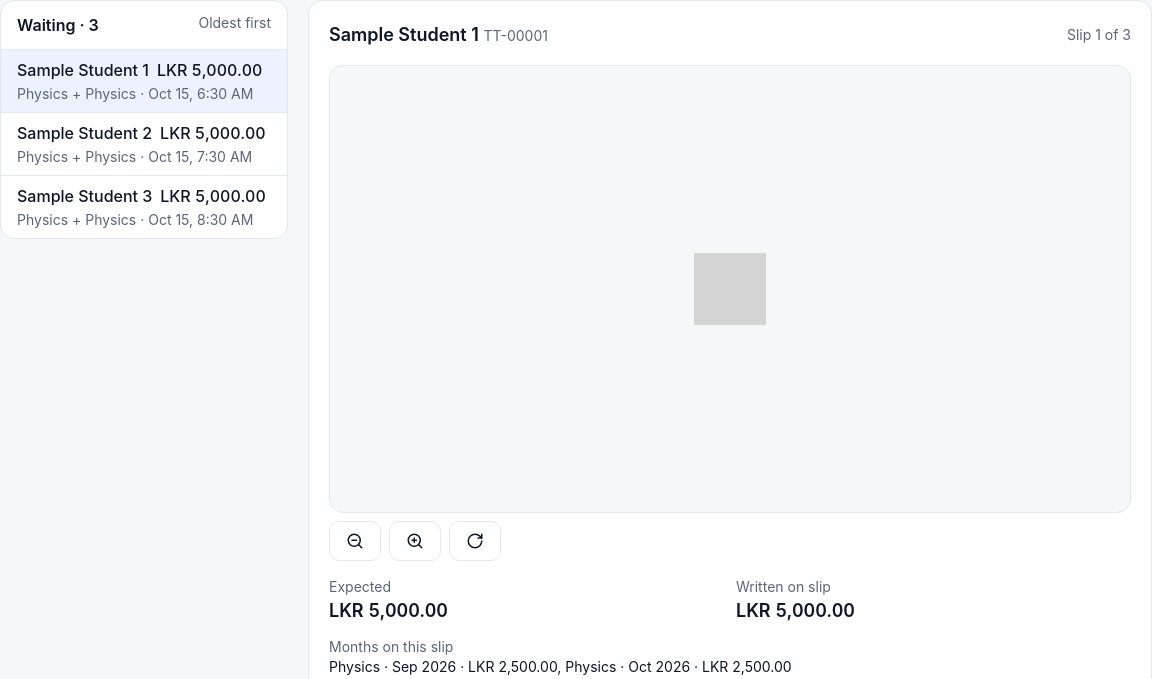
Scenario: bank slip queue 11a/11b (FEE-06) › works keyboard-only: A approves and advances, S skips, R opens the reason dialog and rejects
The image size is (1152, 679).
Type keys "a"
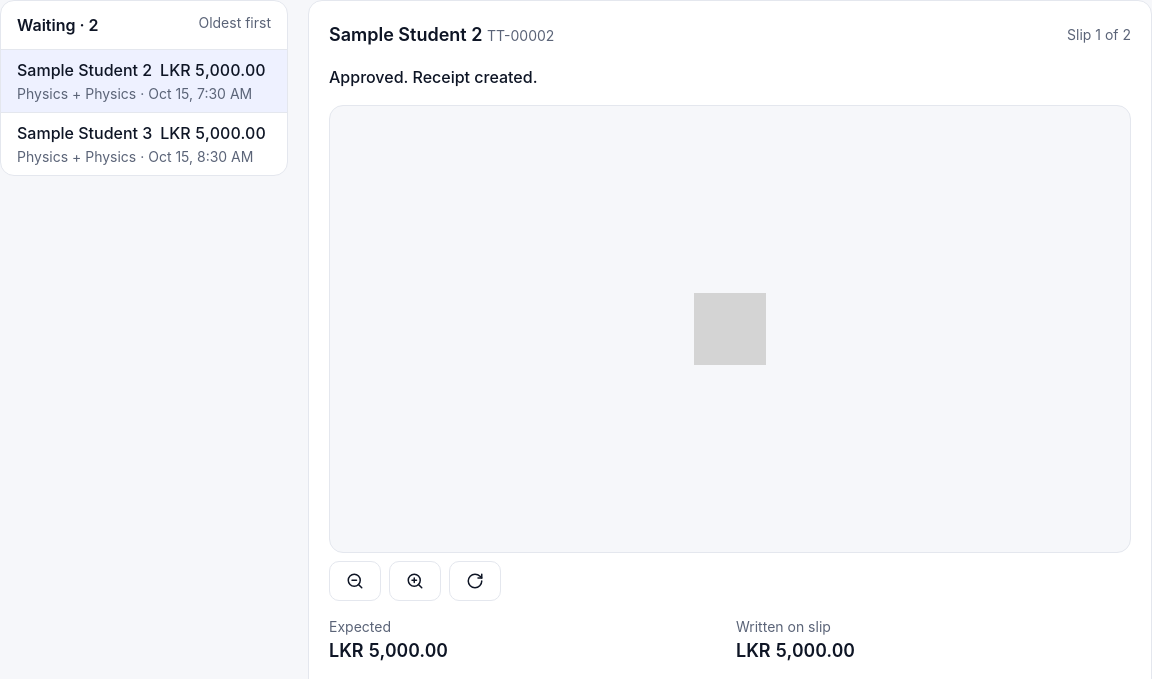
Now the text "Approved. Receipt created." is shown, box [329,67,538,87]
Now the heading "Sample Student 2 TT-00002" is shown, box [329,21,554,49]
Type keys "s"
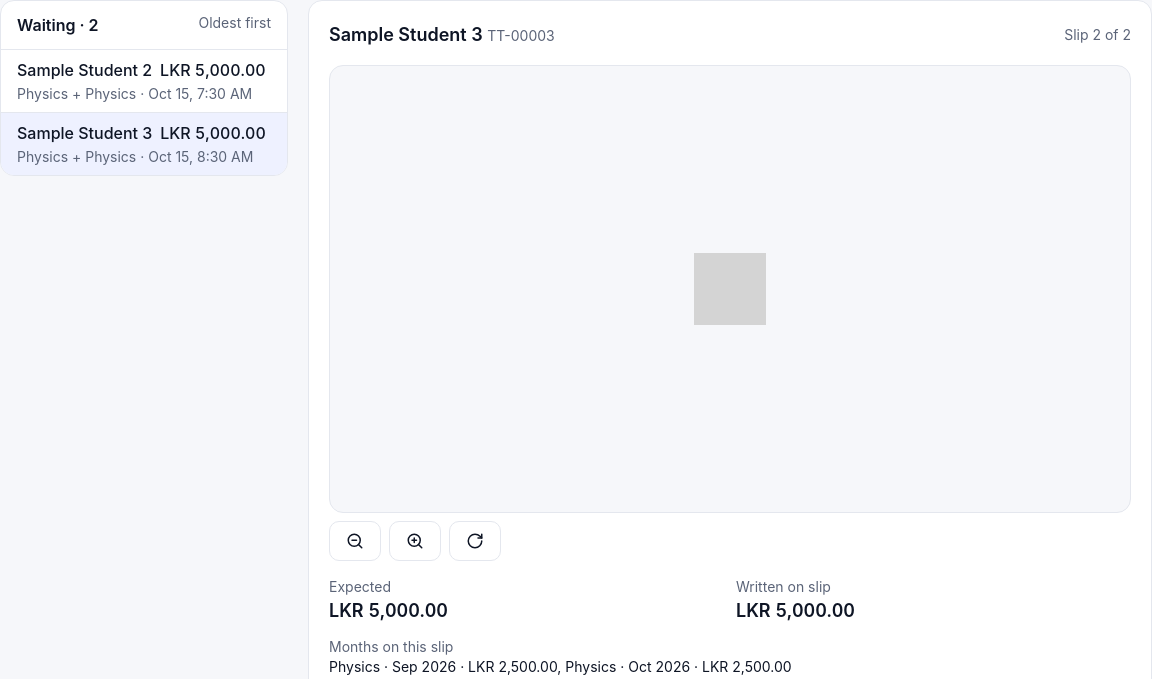
Now the heading "Sample Student 3 TT-00003" is shown, box [329,21,555,49]
Type keys "r"
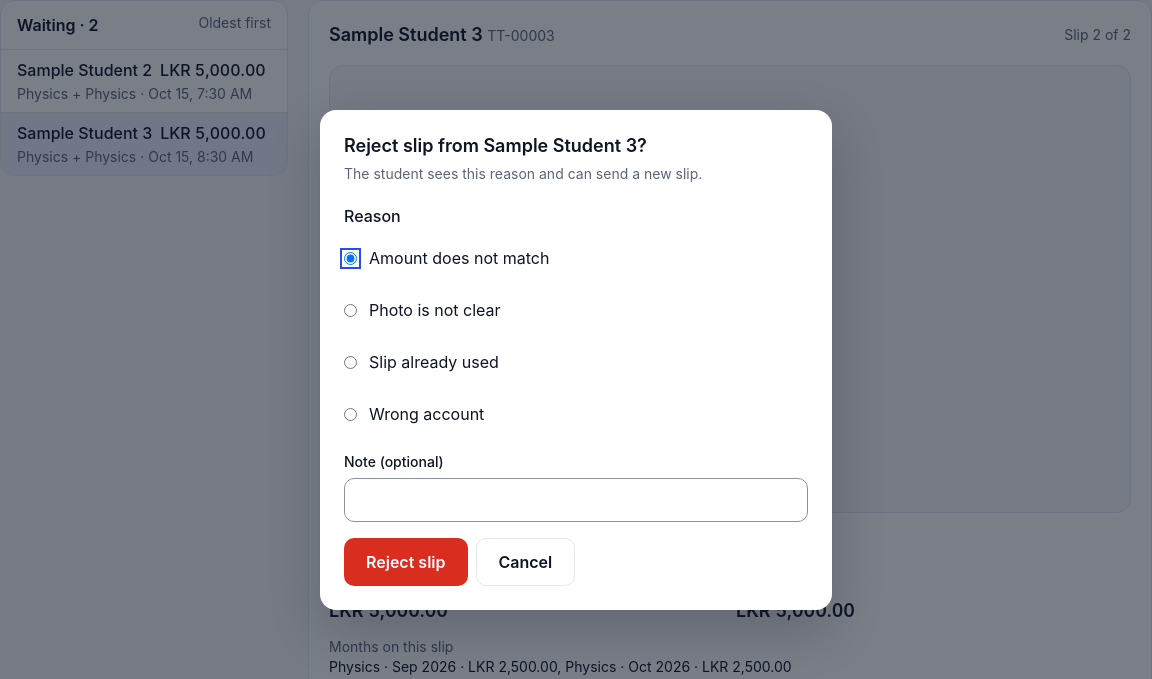
// Typing in the dialog never triggers the queue shortcuts.
Click the radio button labelled "Photo is not clear". click: (350, 310)
box: [344,304,357,316]
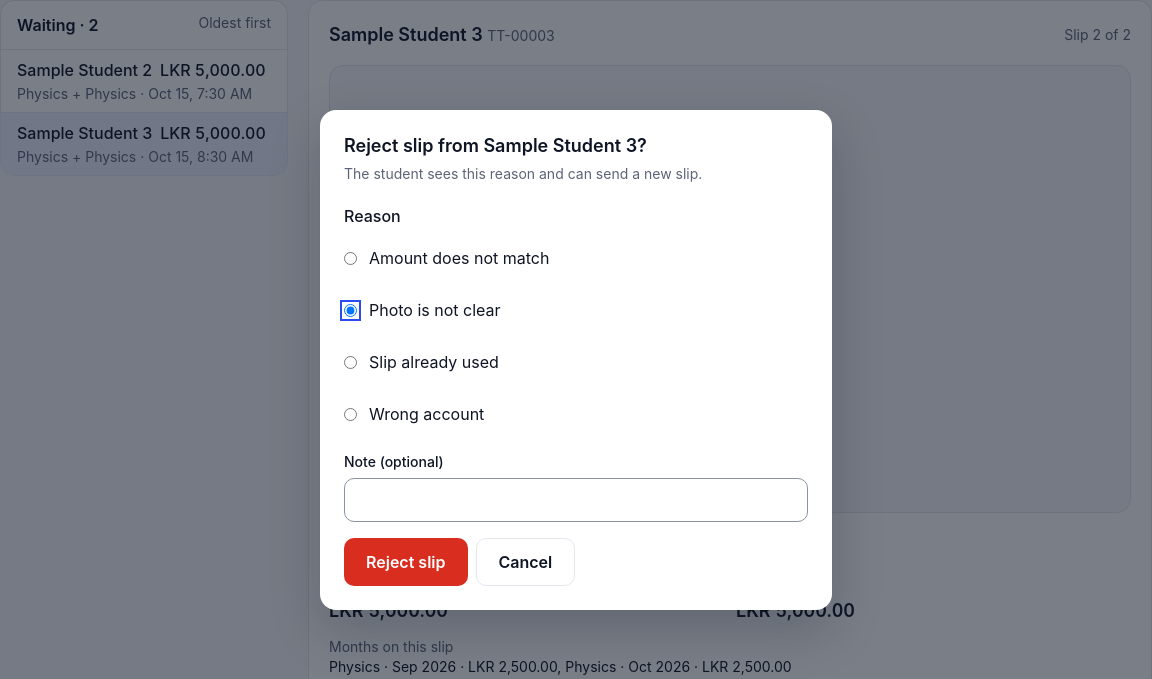
Type "as" into the field labelled "Note (optional)". click: (576, 500)
box: [344,478,808,522]
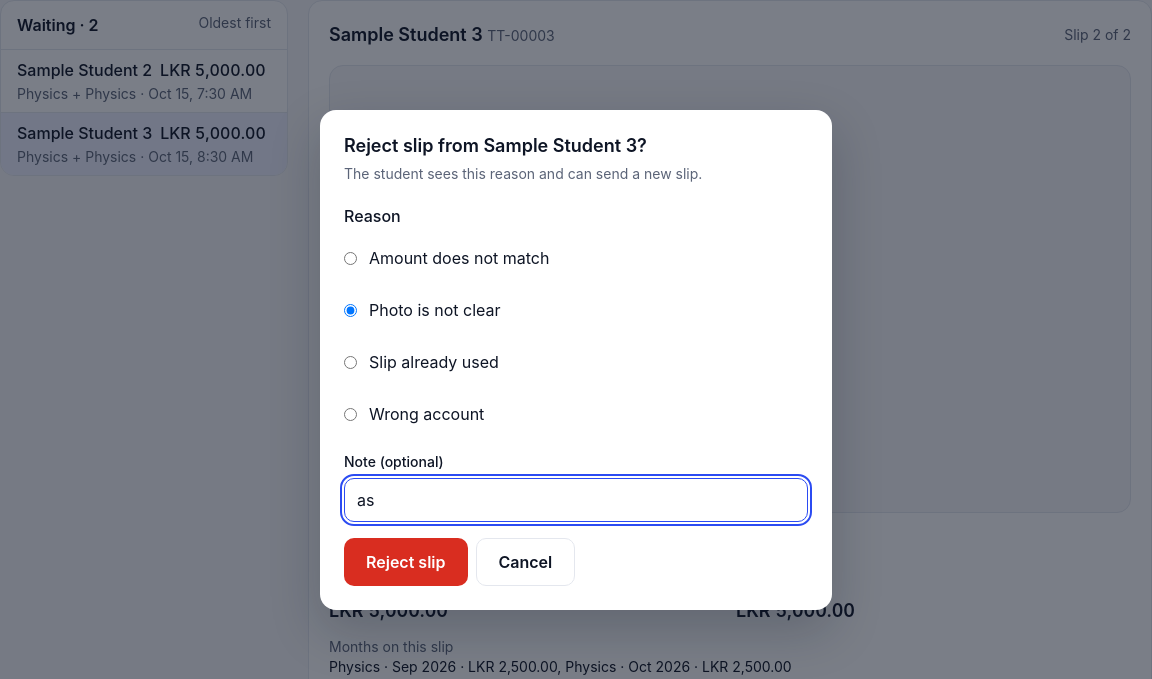
Click the button "Reject slip". click: (406, 562)
box: [344,538,468,586]
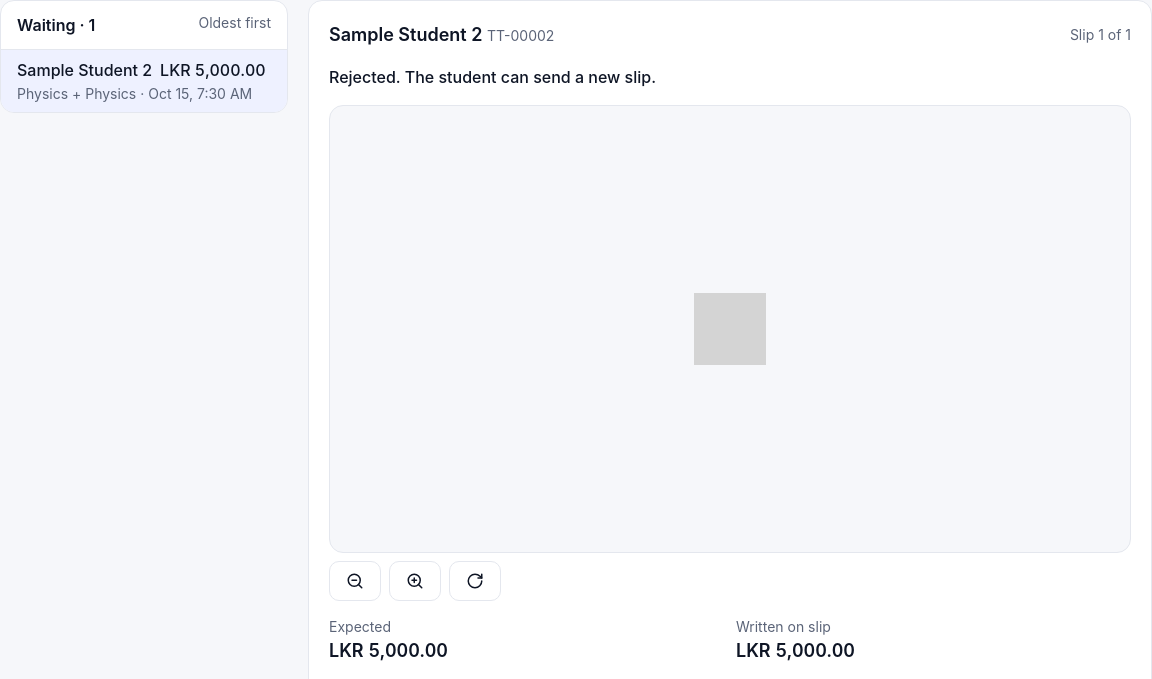
Now the text "Rejected. The student can send a new slip." is shown, box [329,67,656,87]
Now the heading "Reject slip from Sample Student 3?" is gone
Now the heading "Sample Student 2 TT-00002" is shown, box [329,21,554,49]
